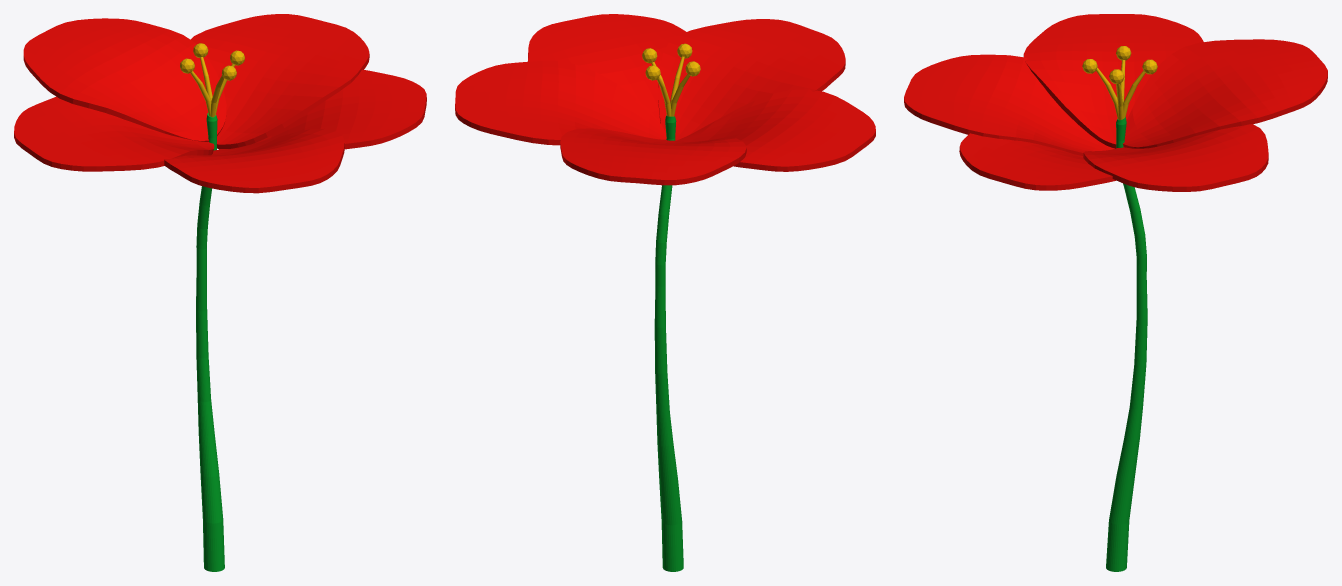
File: Hibiscus_Mesh.fbx
The picture shows the model from 3 angles, left to right: view 1: azimuth 30°, elevation 25°; view 2: azimuth 150°, elevation 25°; view 3: azimuth 270°, elevation 25°; orthographic projection.
Visible parts, largest first — view 1: Cylinder; view 2: Cylinder; view 3: Cylinder.
Boxes of the visible parts, left/top/right/bottom form: Cylinder: left=14, top=14, right=426, bottom=571; Cylinder: left=455, top=14, right=875, bottom=571; Cylinder: left=904, top=14, right=1327, bottom=571.
Size of the model in its own units: 71.67 by 97.17 by 73.2.
